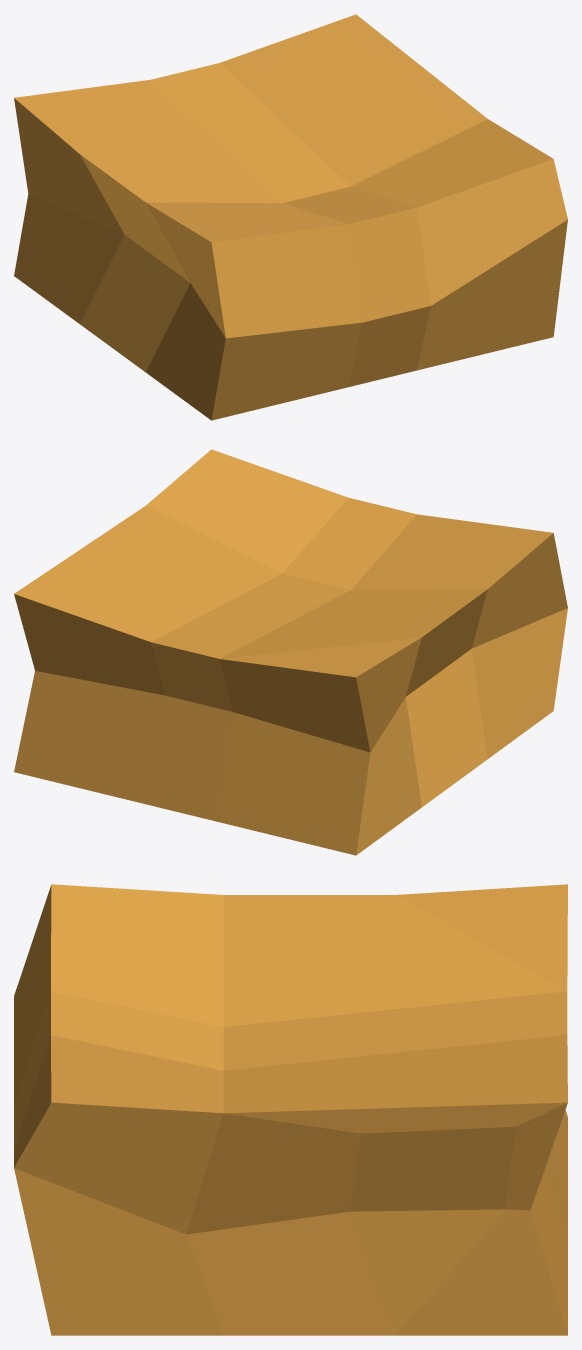
Rendered from props-package-box-crashed.glb.
3 views of the same model, one above another, from view 1: azimuth 30°, elevation 25°; view 2: azimuth 150°, elevation 25°; view 3: azimuth 270°, elevation 25° (orthographic). The views are drawn at different scales.
Visible parts, largest first — view 1: package-box-crashed; view 2: package-box-crashed; view 3: package-box-crashed.
Part boxes in pixels (box(x1,y1,x2,y2)): package-box-crashed: box(14, 14, 567, 420); package-box-crashed: box(14, 449, 567, 855); package-box-crashed: box(14, 884, 567, 1335).
Bounding box in the file's own units: 0.75 × 0.3734 × 0.8044.
